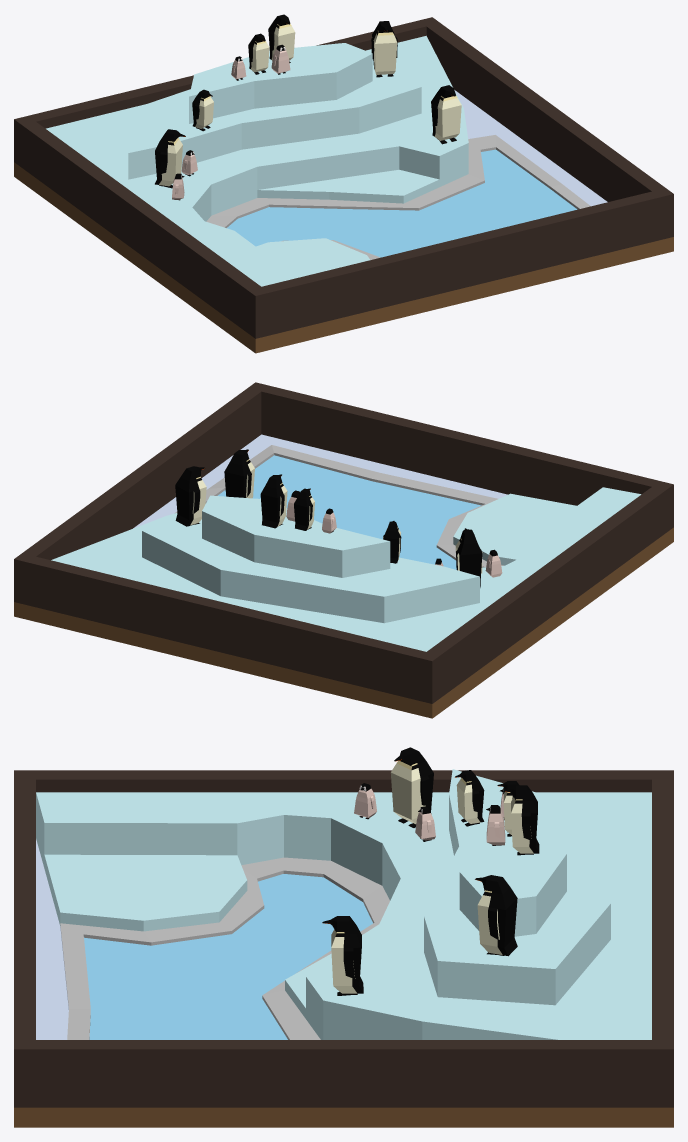
The model's file is penguin_cage_3x3.fbx.
3 views of the same model, one above another, from view 1: azimuth 30°, elevation 25°; view 2: azimuth 150°, elevation 25°; view 3: azimuth 270°, elevation 25° (orthographic). The views are drawn at different scales.
Parts seen in each view (by area): view 1: Cage, penguin_2, penguin_7, penguin_1, penguin_0, penguin_6, penguin_3; view 2: Cage, penguin_1, penguin_2, penguin_0, penguin_7, penguin_3; view 3: Cage, penguin_1, penguin_7, penguin_2, penguin_0, penguin_6, penguin_4, penguin_9.
Boxes of the visible parts, bbox=[...] form: Cage: bbox=[14, 17, 673, 353]; penguin_2: bbox=[431, 85, 461, 144]; penguin_7: bbox=[155, 129, 185, 188]; penguin_1: bbox=[371, 21, 397, 77]; penguin_0: bbox=[268, 14, 295, 62]; penguin_6: bbox=[192, 89, 213, 131]; penguin_3: bbox=[248, 33, 269, 74]; Cage: bbox=[14, 382, 673, 718]; penguin_1: bbox=[175, 466, 206, 526]; penguin_2: bbox=[224, 449, 254, 498]; penguin_0: bbox=[260, 474, 287, 528]; penguin_7: bbox=[455, 528, 482, 587]; penguin_3: bbox=[294, 488, 314, 530]; Cage: bbox=[14, 769, 673, 1127]; penguin_1: bbox=[475, 875, 517, 956]; penguin_7: bbox=[390, 747, 433, 827]; penguin_2: bbox=[322, 916, 363, 995]; penguin_0: bbox=[503, 785, 539, 855]; penguin_6: bbox=[455, 770, 484, 826]; penguin_4: bbox=[486, 805, 505, 845]; penguin_9: bbox=[354, 783, 376, 819].
Bounding box in the file's own units: 300 × 102 × 300.
